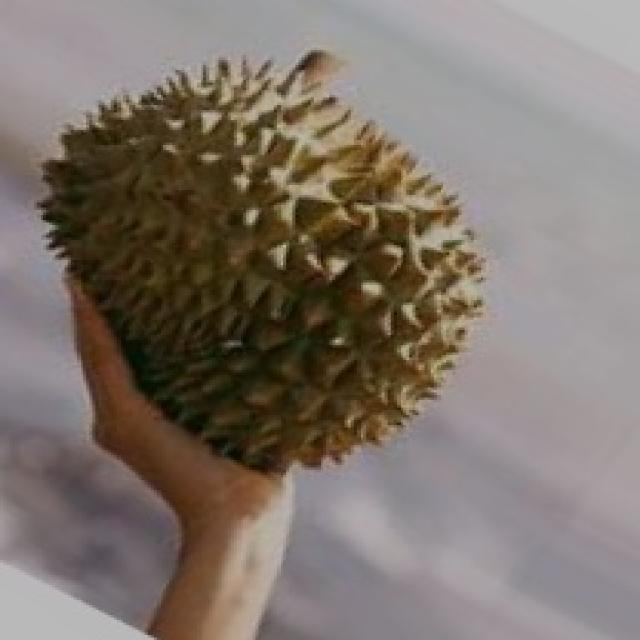fruit: (6, 15, 363, 453)
